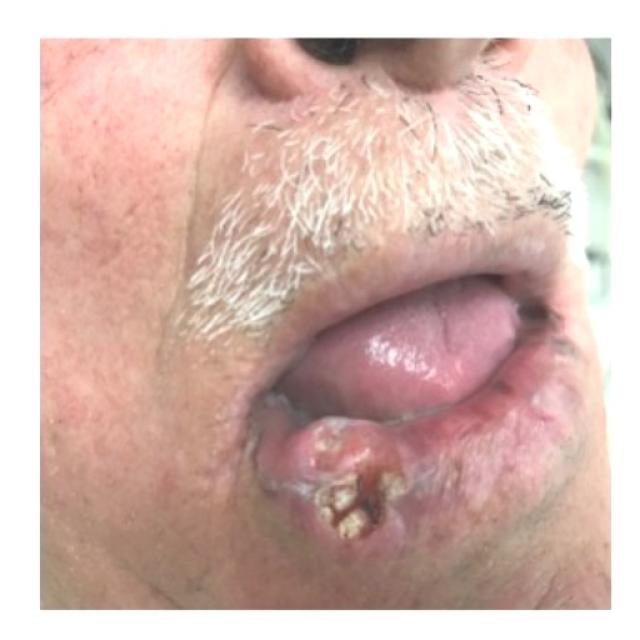cancer-detection: (270, 400, 414, 542)
processing_area: (225, 226, 596, 556)
